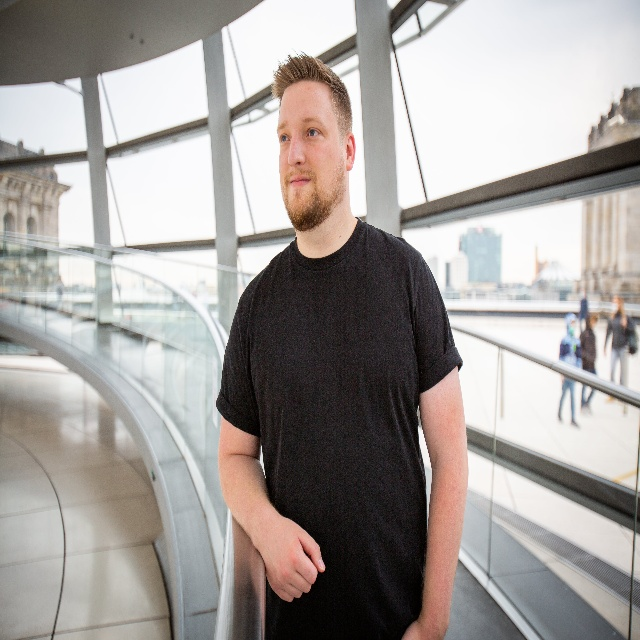Sin_guantes: (262, 515, 325, 602)
